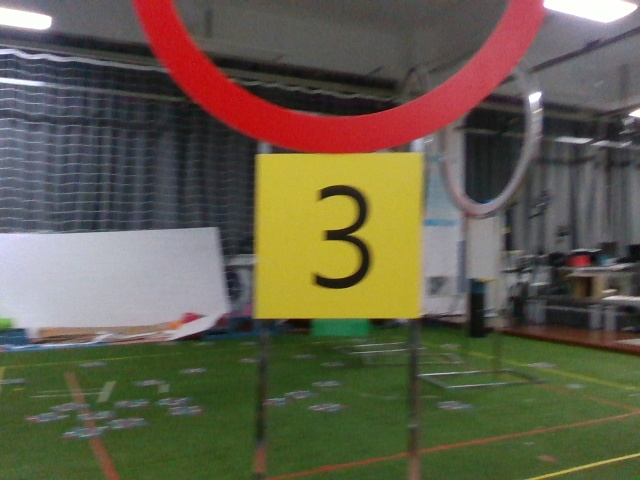target: (258, 149, 420, 316)
